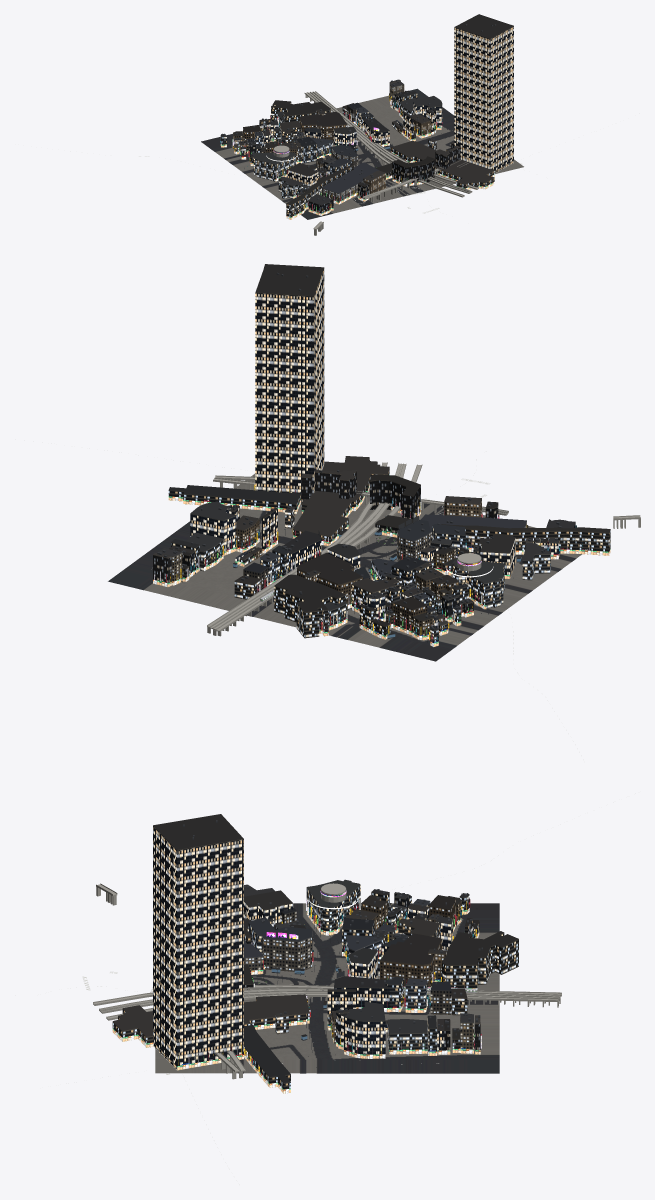
File: shibuya-demo.glb
3 renders of one model, top to bottom at view 1: azimuth 30°, elevation 25°; view 2: azimuth 150°, elevation 25°; view 3: azimuth 270°, elevation 25°, orthographic. The views are drawn at different scales.
Visible parts, largest first — view 1: sbb_617560918, ground, sb_rail, sbb_904652357, sbb_55895868, sbb_87250190, sbb_1333409445, sbb_904734439, sbb_136692137, sbb_55896465, sbb_116806281, sbb_120105804 (+10 smaller); view 2: sbb_617560918, ground, sb_rail, sbb_904652357, sbb_136692137, sbb_904734439, sbb_810356690, sbb_55895868, sbb_1333409445, sbb_120105804, sbb_55896465, sbb_904652318 (+10 smaller); view 3: sbb_617560918, ground, sb_rail, sbb_136692137, sbb_904652357, sbb_55896465, sbb_55895868, sbb_120105804, sbb_60739635, sbb_810356690, sbb_120105810, sbb_116806281 (+10 smaller).
Part boxes in pixels (<box>): sbb_617560918: <box>454,14,513,173</box>; ground: <box>201,88,523,219</box>; sb_rail: <box>304,91,478,235</box>; sbb_904652357: <box>391,140,494,189</box>; sbb_55895868: <box>253,145,297,181</box>; sbb_87250190: <box>322,162,379,204</box>; sbb_1333409445: <box>392,156,434,186</box>; sbb_904734439: <box>286,165,353,219</box>; sbb_136692137: <box>270,100,330,122</box>; sbb_55896465: <box>300,111,347,143</box>; sbb_116806281: <box>361,118,389,146</box>; sbb_120105804: <box>413,96,442,129</box>; sbb_617560918: <box>254,264,324,502</box>; ground: <box>108,473,581,661</box>; sb_rail: <box>207,462,640,636</box>; sbb_904652357: <box>292,456,389,545</box>; sbb_136692137: <box>274,574,345,638</box>; sbb_904734439: <box>441,524,610,555</box>; sbb_810356690: <box>168,485,300,514</box>; sbb_55895868: <box>445,553,504,609</box>; sbb_1333409445: <box>370,474,421,519</box>; sbb_120105804: <box>190,501,236,555</box>; sbb_55896465: <box>297,553,362,608</box>; sbb_904652318: <box>301,469,356,505</box>; sbb_617560918: <box>153,814,244,1070</box>; ground: <box>155,903,499,1073</box>; sb_rail: <box>93,883,561,1079</box>; sbb_136692137: <box>441,931,518,990</box>; sbb_904652357: <box>112,994,310,1047</box>; sbb_55896465: <box>380,933,441,987</box>; sbb_55895868: <box>306,879,360,935</box>; sbb_120105804: <box>343,1001,385,1058</box>; sbb_60739635: <box>261,927,313,971</box>; sbb_810356690: <box>244,1025,290,1093</box>; sbb_120105810: <box>387,1019,427,1054</box>; sbb_116806281: <box>334,971,389,1012</box>.
Bounding box in the file's own units: 880 × 231 × 592.
Materials: 20 (7 with a texture image).
